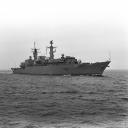Fragata: (11, 40, 112, 78)
